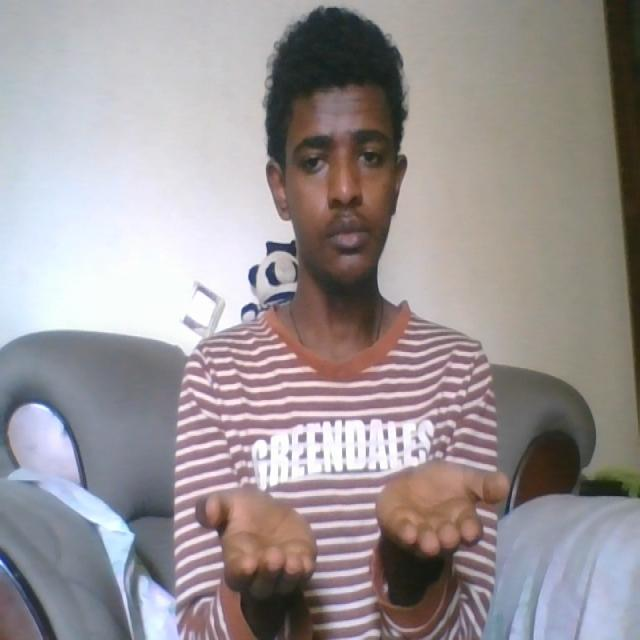mestet: (197, 491, 503, 583)
